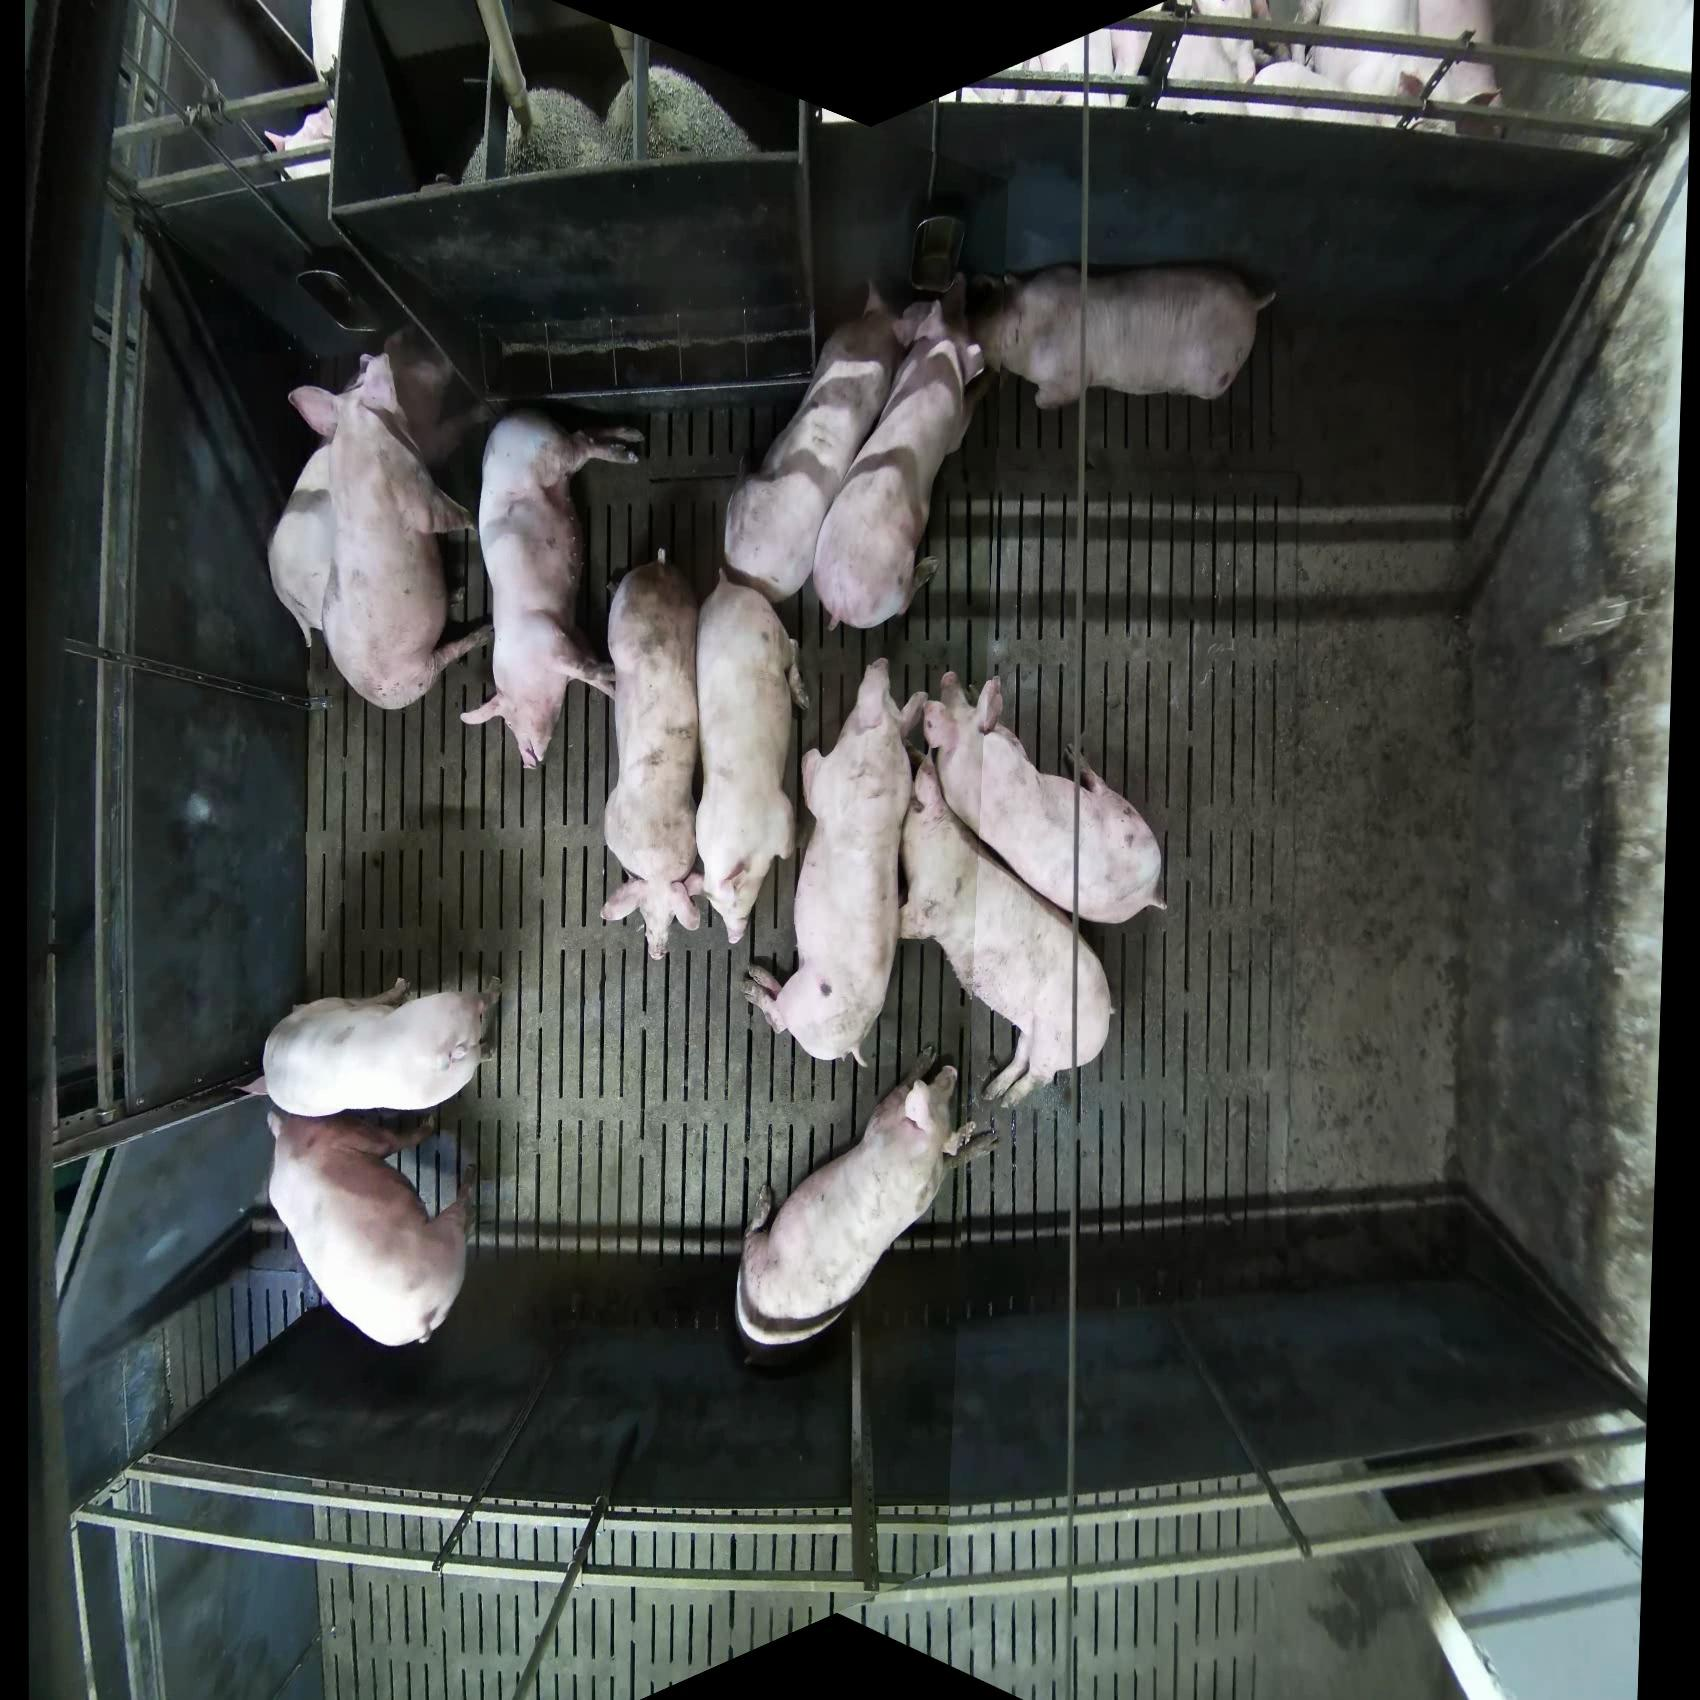pig: (268, 332, 490, 713), (898, 747, 1115, 1112), (733, 1055, 999, 1350), (743, 657, 928, 1068), (458, 403, 646, 771), (922, 669, 1169, 926), (811, 274, 989, 630), (722, 277, 904, 604), (265, 1101, 479, 1350), (967, 260, 1280, 411), (693, 567, 810, 947), (599, 548, 702, 961), (262, 973, 504, 1118), (268, 434, 336, 660)
